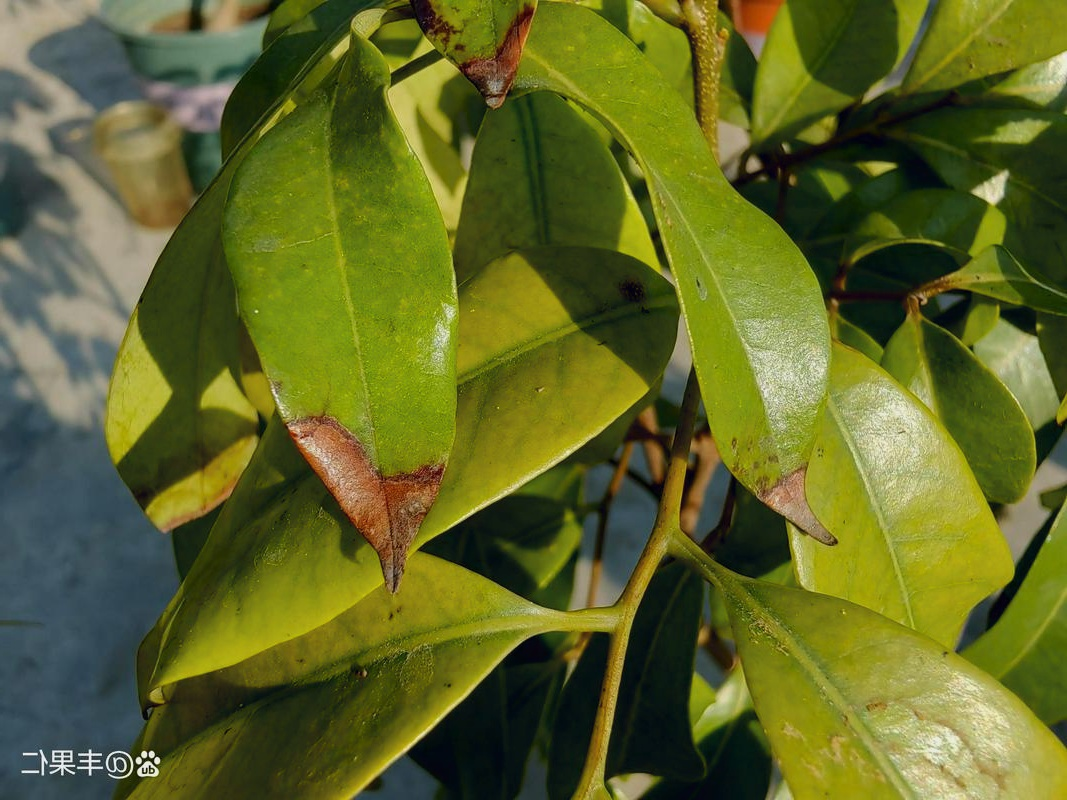Frost_Blight: (294, 359, 478, 576), (737, 386, 890, 559), (427, 0, 512, 140)
